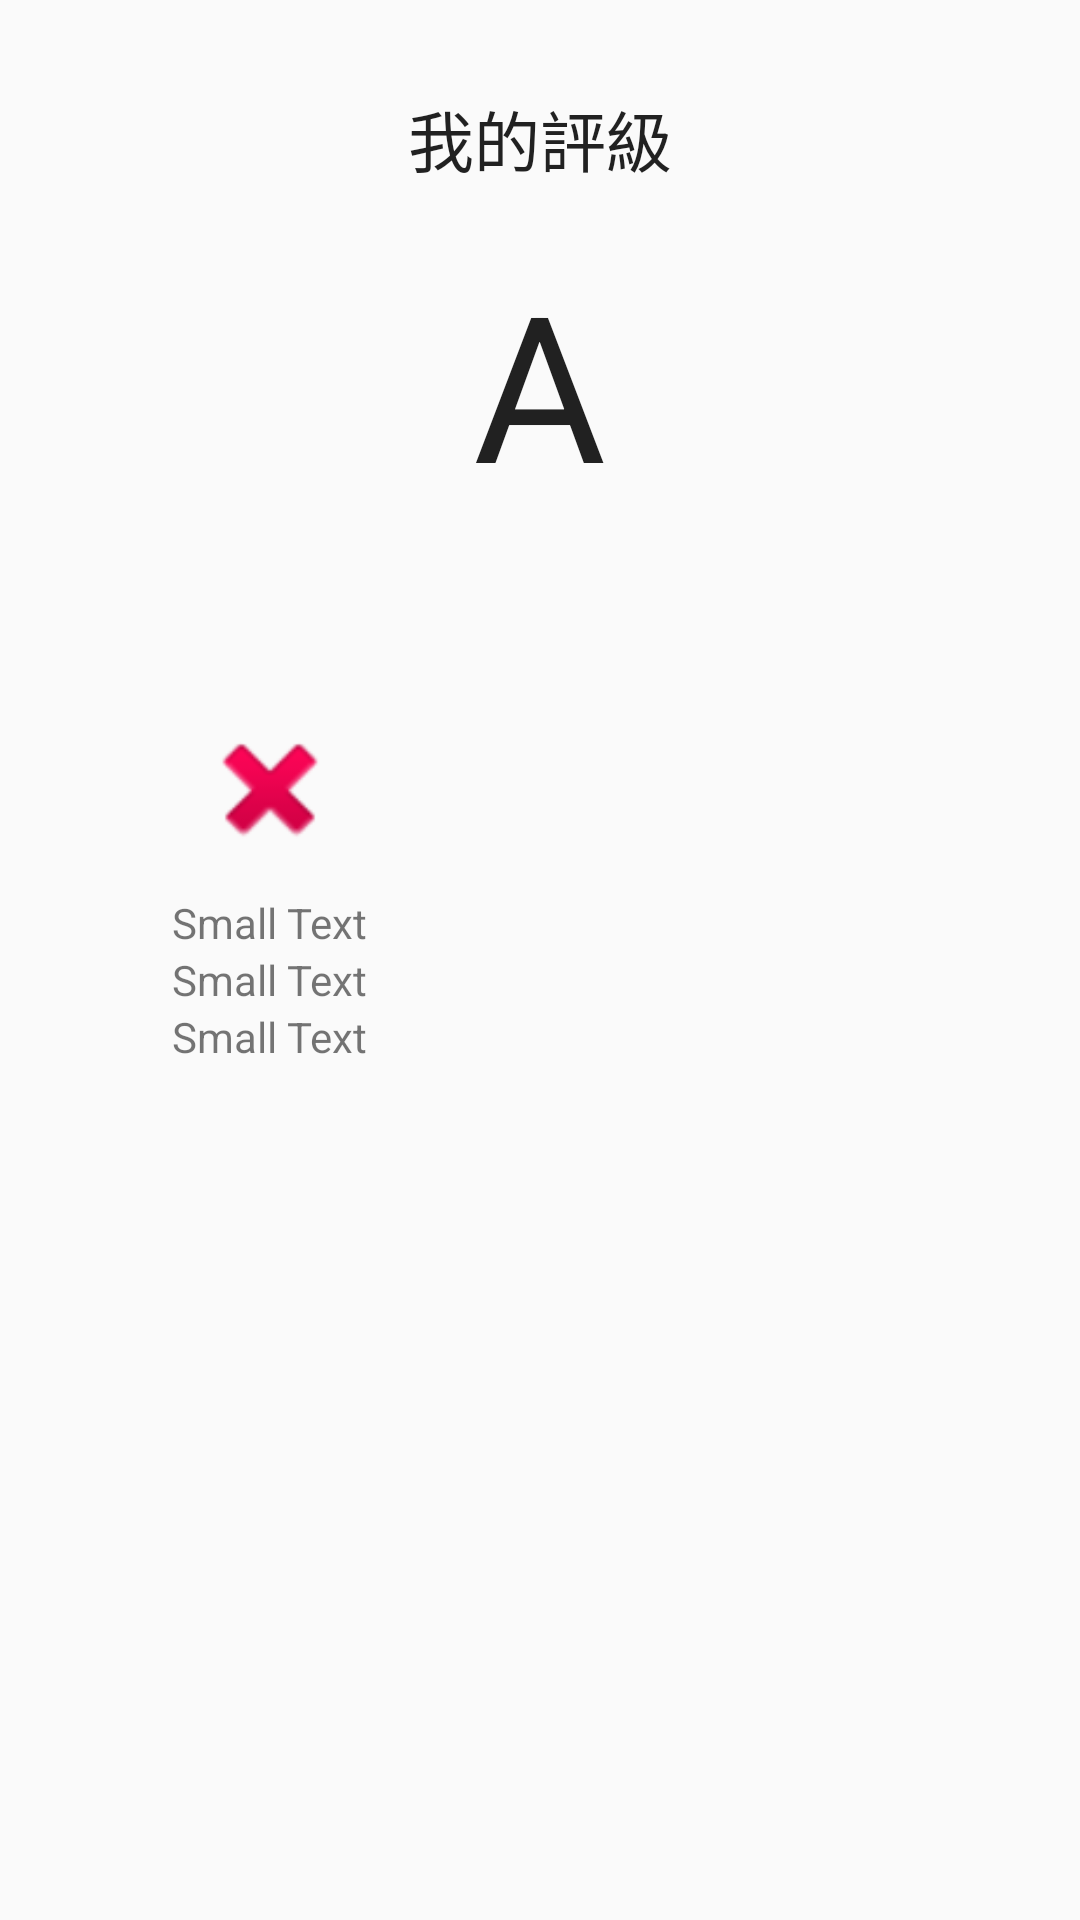

Icon click points for this 1080x1920 phone screenshot, format (x=x, y=y):
delete: (x=270, y=790)
